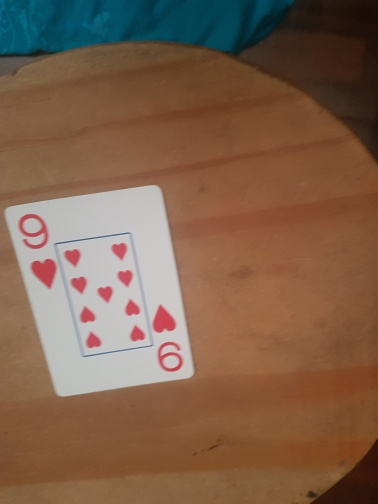nine: (5, 184, 194, 397)
